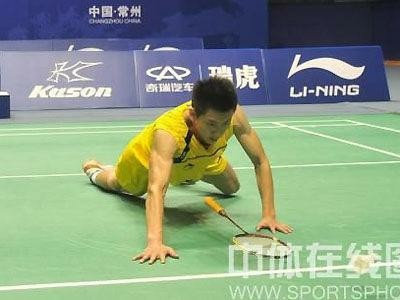falling: (77, 66, 290, 271)
